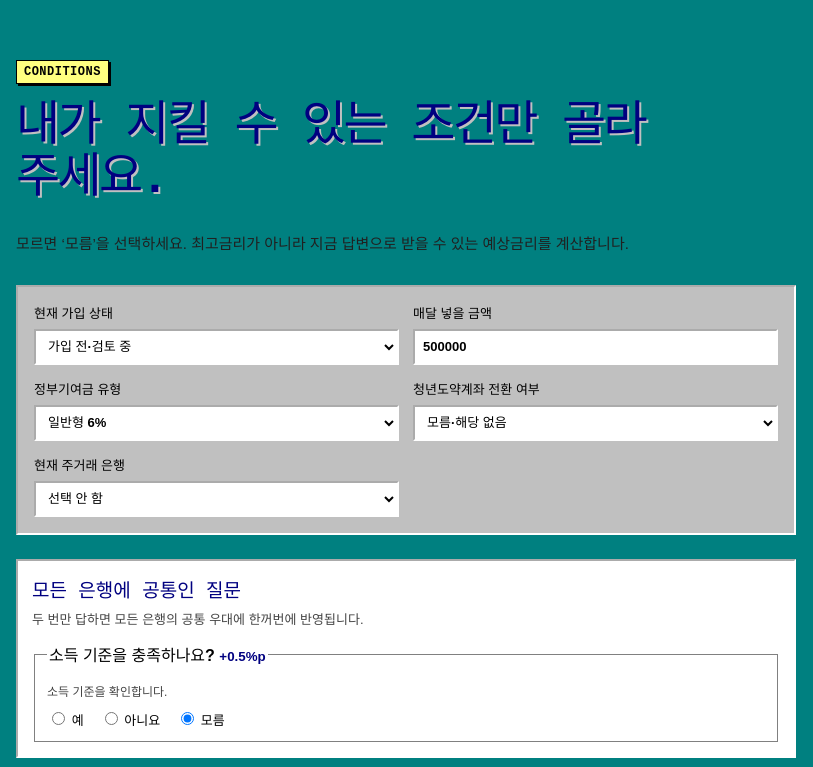
it: Phase 4 pages › guides an enrolled user to enter the bank and enrollment month
The image size is (813, 767).
Step 1. Select "이미 가입함" in the dropdown labelled "현재 가입 상태" → (216, 347), box [34,329,399,365]
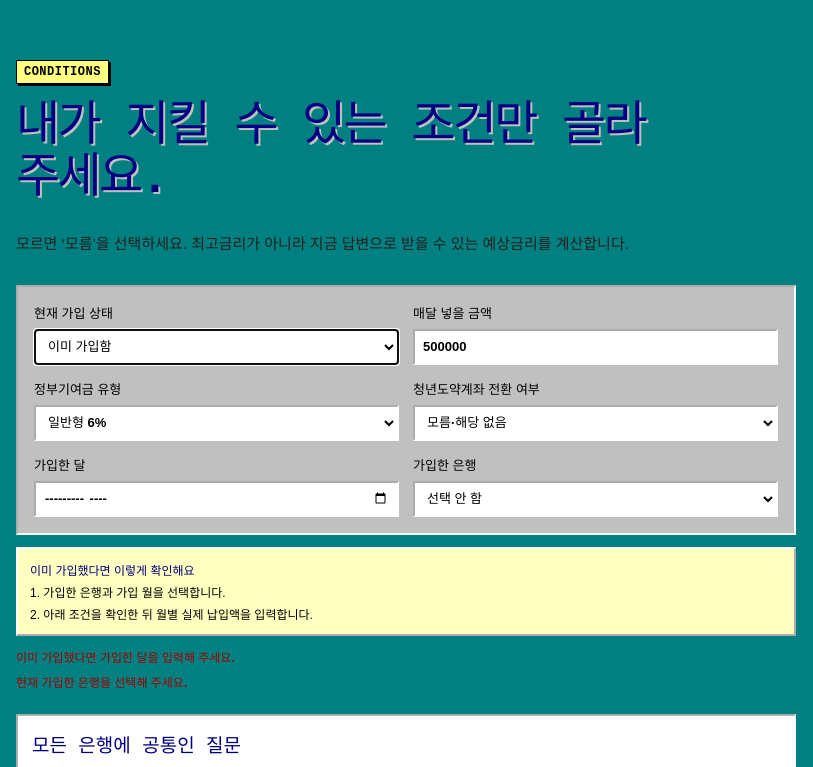
Expected: the text "이미 가입했다면 이렇게 확인해요" is shown, [30,564,195,578]
Expected: the text "현재 가입한 은행을 선택해 주세요." is shown, [16,676,187,690]
Expected: the text "이미 가입했다면 가입한 달을 입력해 주세요." is shown, [16,651,235,665]
Step 2. Type "2026-10" into the field labelled "가입한 달" → (216, 499), box [34,481,399,517]
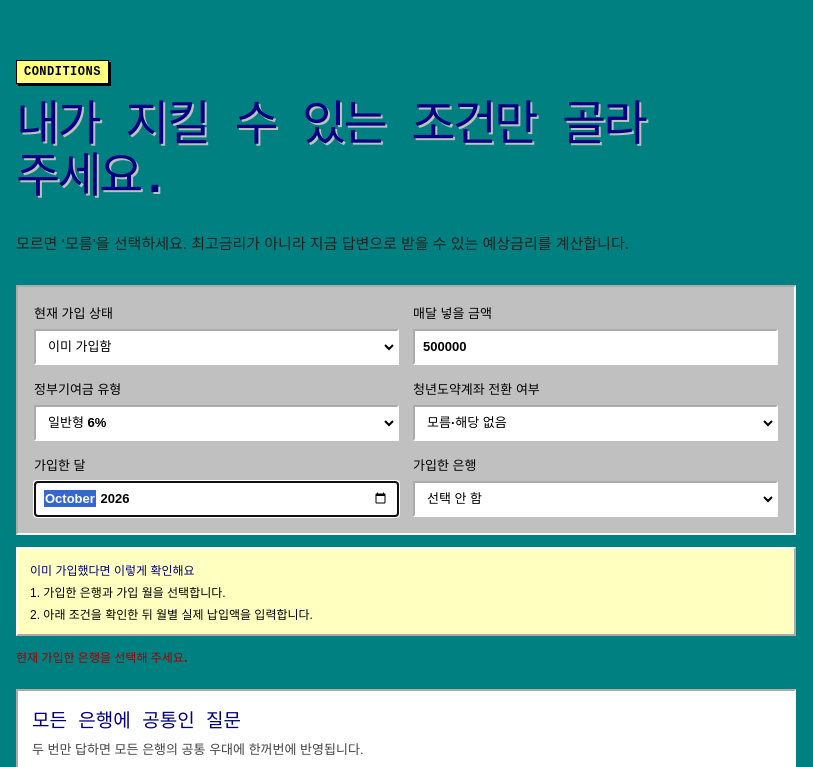
Step 3. Select "KB국민은행" in the dropdown labelled "가입한 은행" → (596, 499), box [413,481,778,517]
(page scrolled)
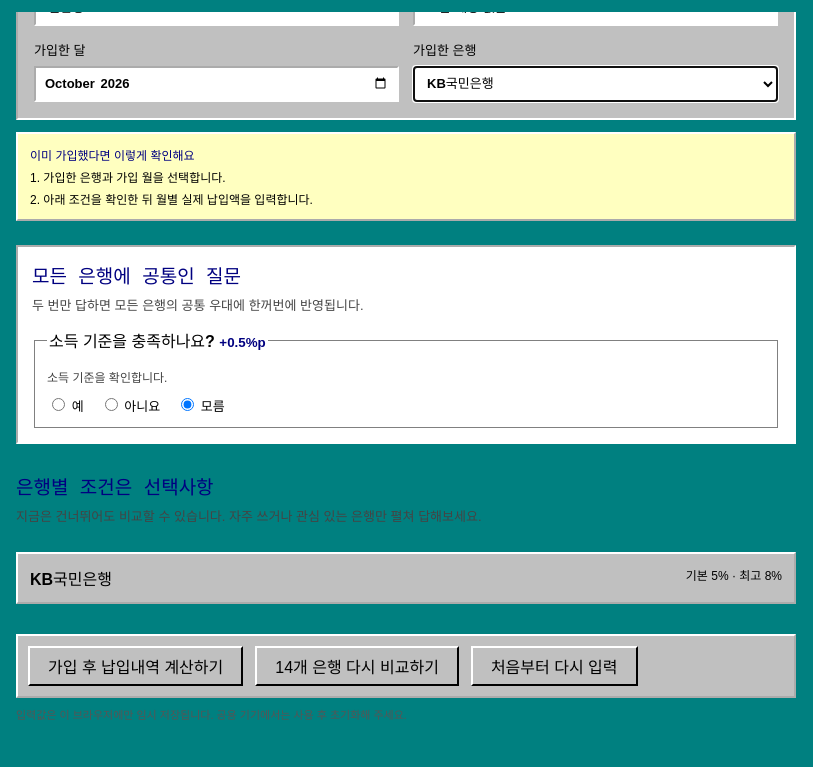
Expected: the button "가입 후 납입내역 계산하기" is enabled, [28,646,243,686]
